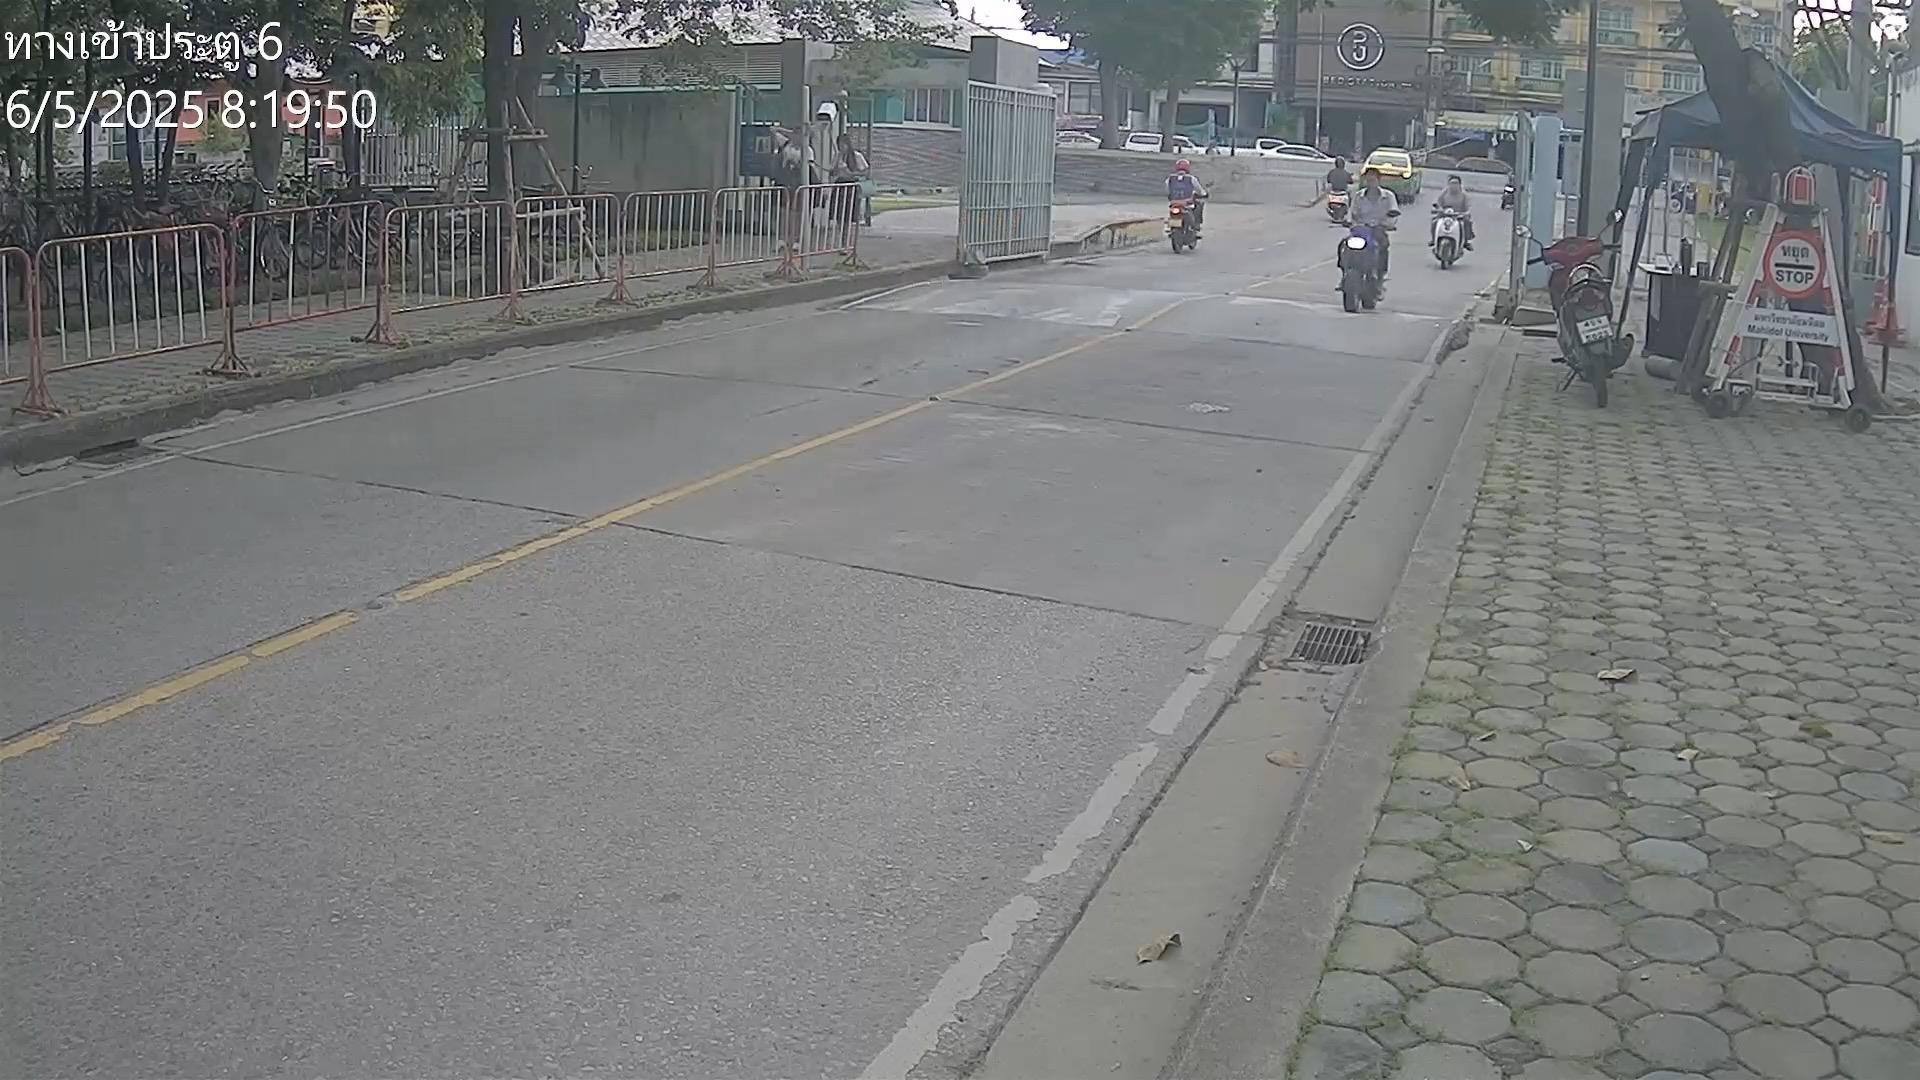With-Helmet: (1175, 158, 1191, 173)
